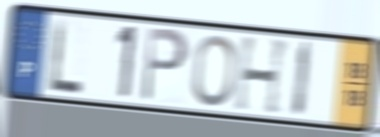1: (115, 23, 140, 102)
H: (232, 34, 293, 117)
I: (290, 38, 315, 121)
L: (48, 16, 85, 96)
O: (190, 33, 238, 109)
P: (139, 25, 191, 105)
